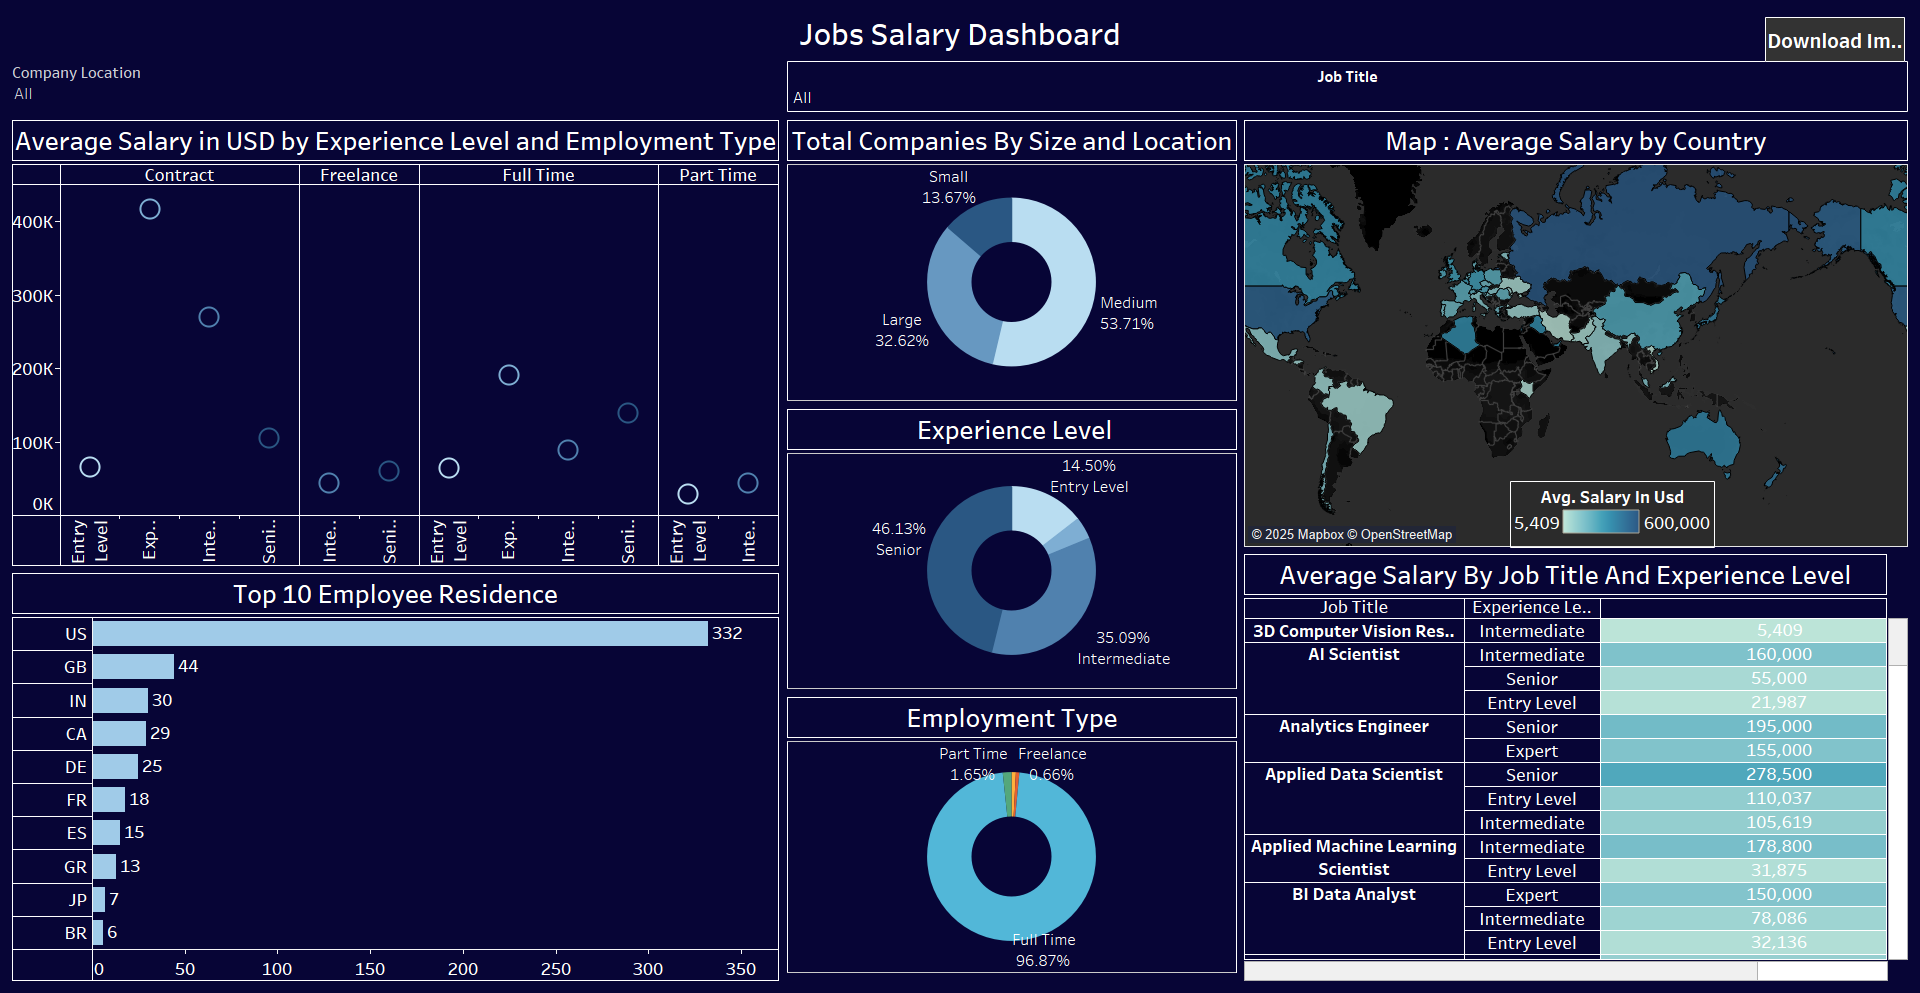

The dashboard page shown, as its layout file describes it:
{"tool":"tableau","page":{"name":"Dashboard 1","canvas":[1000,1000],"units":"permille","ordinal":0},"visuals":[{"type":"title","box":[4.8,10,990.3,61.2]},{"type":"dashboard-object","box":[919.1,17.5,73,44.9]},{"type":"filter","title":"Total Companies By Size and Location","param":"[federated.06j91v41yytjut1d6ev5m0dt3v7q].[none:company_location:nk]","box":[4.8,71.2,403.1,58]},{"type":"filter","title":"Map : Average Salary by Country","param":"[federated.06j91v41yytjut1d6ev5m0dt3v7q].[none:job_title:nk]","box":[407.9,71.2,587.3,58]},{"type":"worksheet","title":"Average Salary in USD by Experience Level and Employment Type ","mark":"Shape","rows":["salary_in_usd"],"cols":["employment_type","experience_level"],"box":[4.8,129.2,402.9,449.3]},{"type":"worksheet","title":"Total Companies By Size and Location","mark":"Pie","rows":["Calculation_912823416019795973","Calculation_912823416019812359"],"box":[407.7,129.2,238.1,286.3]},{"type":"worksheet","title":"Map : Average Salary by Country","mark":"Automatic","box":[645.8,129.2,349.3,430.2]},{"type":"worksheet","title":" Experience Level ","mark":"Pie","rows":["Calculation_912823416019795973","Calculation_912823416019812359"],"box":[407.7,415.5,238.1,285.6]},{"type":"legend","title":"Average Salary By Job Title And Experience Level","param":"[federated.06j91v41yytjut1d6ev5m0dt3v7q].[avg:salary_in_usd:qk]","box":[786.4,484.4,106.8,67.4]},{"type":"worksheet","title":"Average Salary By Job Title And Experience Level","mark":"Square","rows":["job_title","experience_level"],"box":[645.8,559.5,349.3,430.6]},{"type":"worksheet","title":"Top 10 Employee Residence","mark":"Automatic","rows":["employee_residence"],"cols":["employee_residence"],"box":[4.8,578.5,402.9,411.5]},{"type":"worksheet","title":"Employment Type","mark":"Pie","rows":["Calculation_912823416019795973","Calculation_912823416019812359"],"box":[407.7,701.1,238.1,288.9]}]}

Visuals, with their boxes on the dashboard's canvas, which has no fixed pixel size, in thousandths of its width and height (x1, y1, x2, y2). These are canvas units, not pixel positions in the 1920x993 screenshot, which may show the page scaled, cropped or inside an application window:
title: l=5, t=10, r=995, b=71
dashboard-object: l=919, t=18, r=992, b=62
"Total Companies By Size and Location" filter: l=5, t=71, r=408, b=129
"Map : Average Salary by Country" filter: l=408, t=71, r=995, b=129
"Average Salary in USD by Experience Level and Employment Type " worksheet (Shape marks): l=5, t=129, r=408, b=578
"Total Companies By Size and Location" worksheet (Pie marks): l=408, t=129, r=646, b=416
"Map : Average Salary by Country" worksheet: l=646, t=129, r=995, b=559
" Experience Level " worksheet (Pie marks): l=408, t=416, r=646, b=701
"Average Salary By Job Title And Experience Level" legend: l=786, t=484, r=893, b=552
"Average Salary By Job Title And Experience Level" worksheet (Square marks): l=646, t=560, r=995, b=990
"Top 10 Employee Residence" worksheet: l=5, t=578, r=408, b=990
"Employment Type" worksheet (Pie marks): l=408, t=701, r=646, b=990
